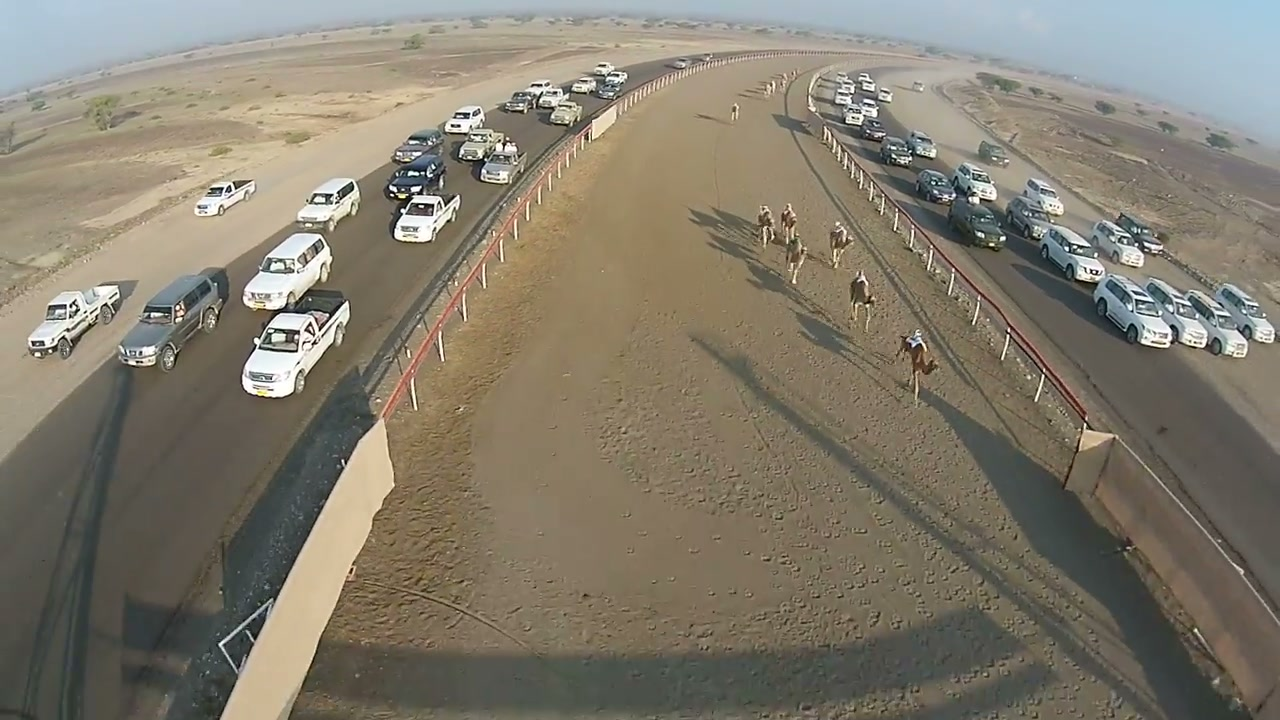animal_foot_print: (757, 227, 1106, 719)
